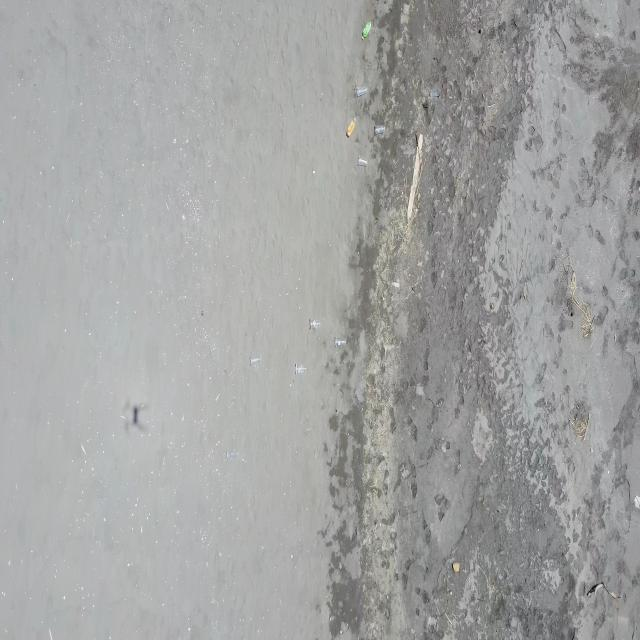plastic-bottle: (346, 116, 356, 138), (361, 21, 372, 41)
takeaway-cup: (334, 336, 347, 350), (250, 354, 262, 368), (356, 85, 368, 97), (373, 125, 386, 136), (294, 363, 306, 374), (309, 319, 321, 330), (357, 156, 368, 167), (430, 87, 440, 98)
